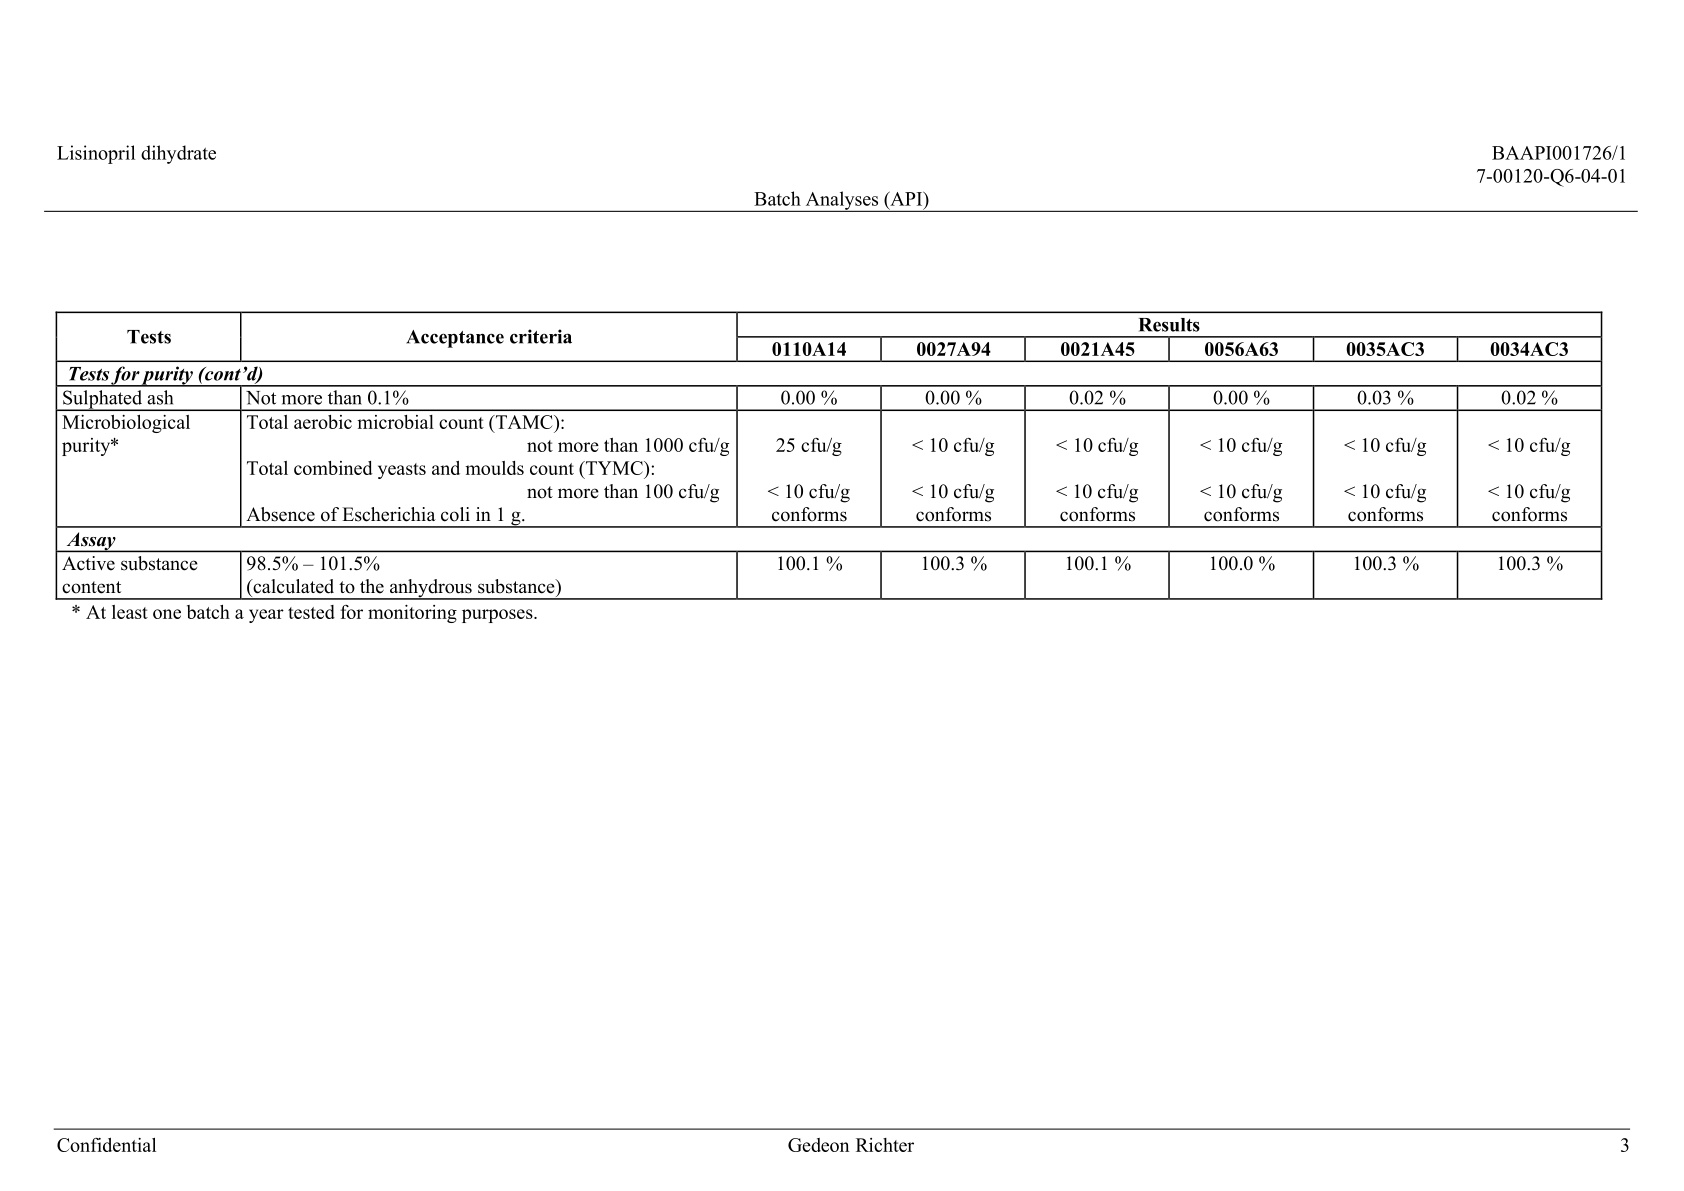merged_cells: (55, 311, 1603, 599)
